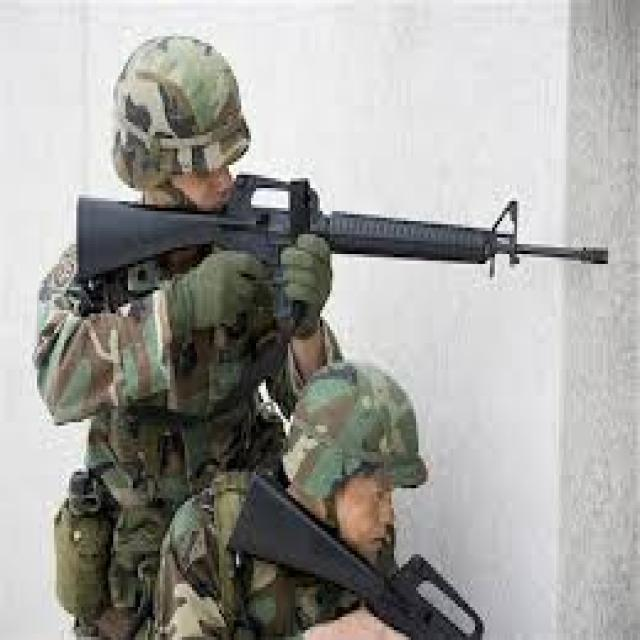soldier: (48, 35, 622, 356), (151, 360, 494, 640)
